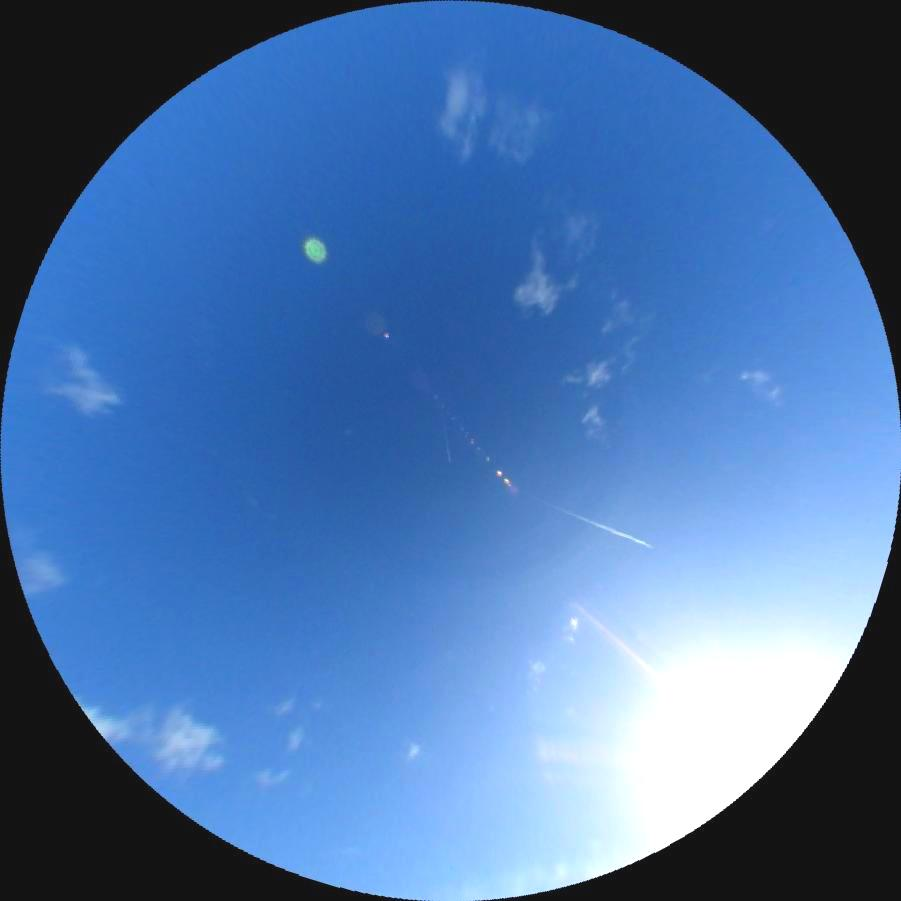contrail young: (538, 497, 655, 550), (439, 408, 452, 464), (323, 846, 367, 855)
parasite: (567, 599, 696, 713)
sun: (634, 639, 835, 833)
